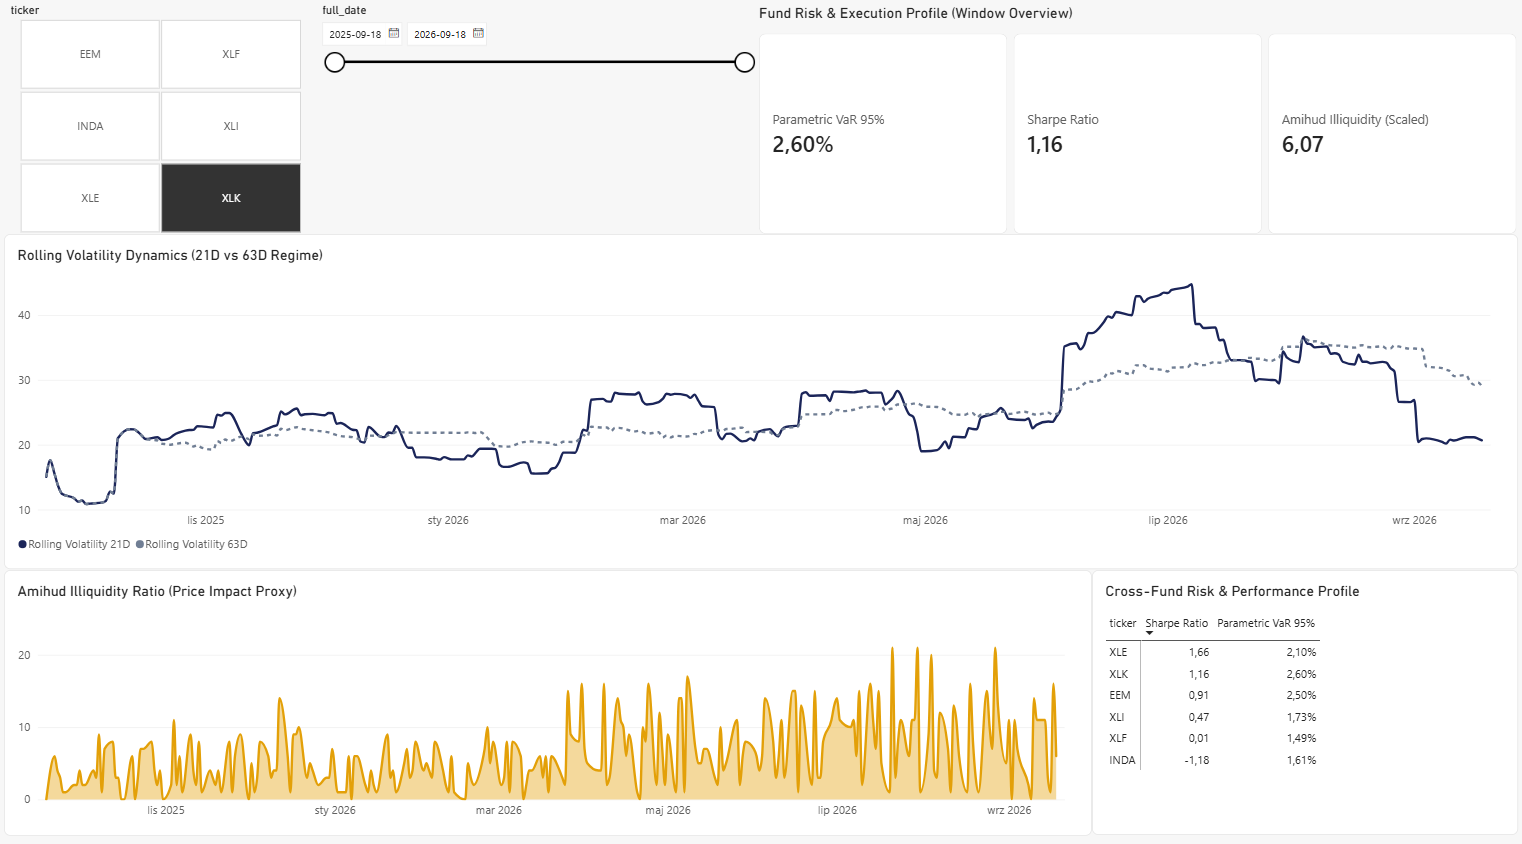

This screenshot's page, from the dashboard's own definition file:
{"tool":"powerbi","page":{"name":"Liquidity & Risk Analytics","canvas":[1920,1080],"ordinal":2},"visuals":[{"type":"slicer","fields":{"Values":["dim_security.ticker"]},"box":[13.3,16,391,297.9],"z":0},{"type":"slicer","fields":{"Values":["dim_date.full_date"]},"box":[404.3,16,556,288.6],"z":1},{"type":"cardVisual","title":"Fund Risk & Execution Profile (Window Overview)","fields":{"Data":["_Measures.Parametric VaR 95%","_Measures.Sharpe Ratio","_Measures.Amihud Illiquidity (Scaled)"]},"box":[960.3,6.7,949.7,297.9],"z":2},{"type":"lineChart","title":"Rolling Volatility Dynamics (21D vs 63D Regime)","fields":{"Category":["dim_date.full_date"],"Y":["Avg(view_etf_market_analytics.rolling_vol_21d_pct)","Avg(view_etf_market_analytics.rolling_vol_63d_pct)"]},"box":[13.3,304.6,1896.7,420.3],"z":3},{"type":"areaChart","title":"Amihud Illiquidity Ratio (Price Impact Proxy)","fields":{"Category":["dim_date.full_date"],"Y":["_Measures.Amihud Illiquidity (Scaled)"]},"box":[13.3,724.9,1363.3,332.5],"z":4},{"type":"pivotTable","title":"Cross-Fund Risk & Performance Profile","fields":{"Rows":["dim_security.ticker"],"Values":["_Measures.Sharpe Ratio","_Measures.Parametric VaR 95%"]},"box":[1376.6,724.9,544,332.5],"z":5}]}

Visuals, with their boxes in screenshot pixels (x1, y1, x2, y2), scaled from the page's 1920x1080 canvas onto the 1522x844 screenshot:
slicer - dim_security.ticker: pyautogui.locateOnScreen(11, 13, 320, 245)
slicer - dim_date.full_date: pyautogui.locateOnScreen(320, 13, 761, 238)
"Fund Risk & Execution Profile (Window Overview)" cardVisual: pyautogui.locateOnScreen(761, 5, 1514, 238)
"Rolling Volatility Dynamics (21D vs 63D Regime)" lineChart: pyautogui.locateOnScreen(11, 238, 1514, 566)
"Amihud Illiquidity Ratio (Price Impact Proxy)" areaChart: pyautogui.locateOnScreen(11, 566, 1091, 826)
"Cross-Fund Risk & Performance Profile" pivotTable: pyautogui.locateOnScreen(1091, 566, 1521, 826)
